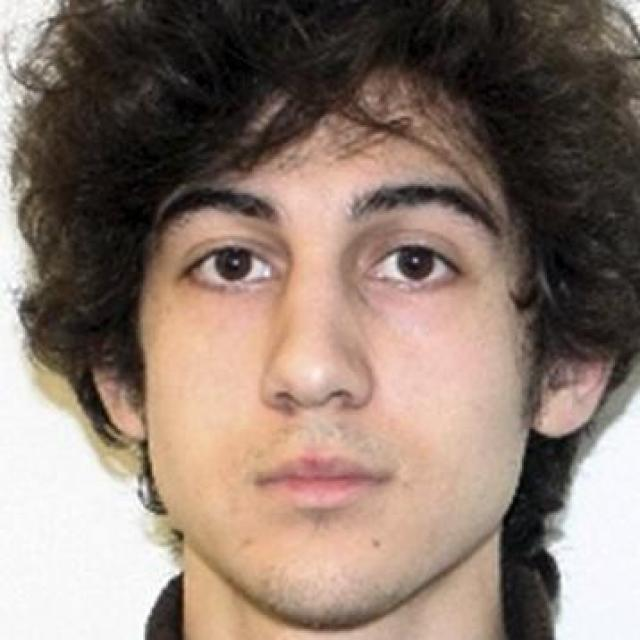Surprised: (145, 75, 543, 586)
